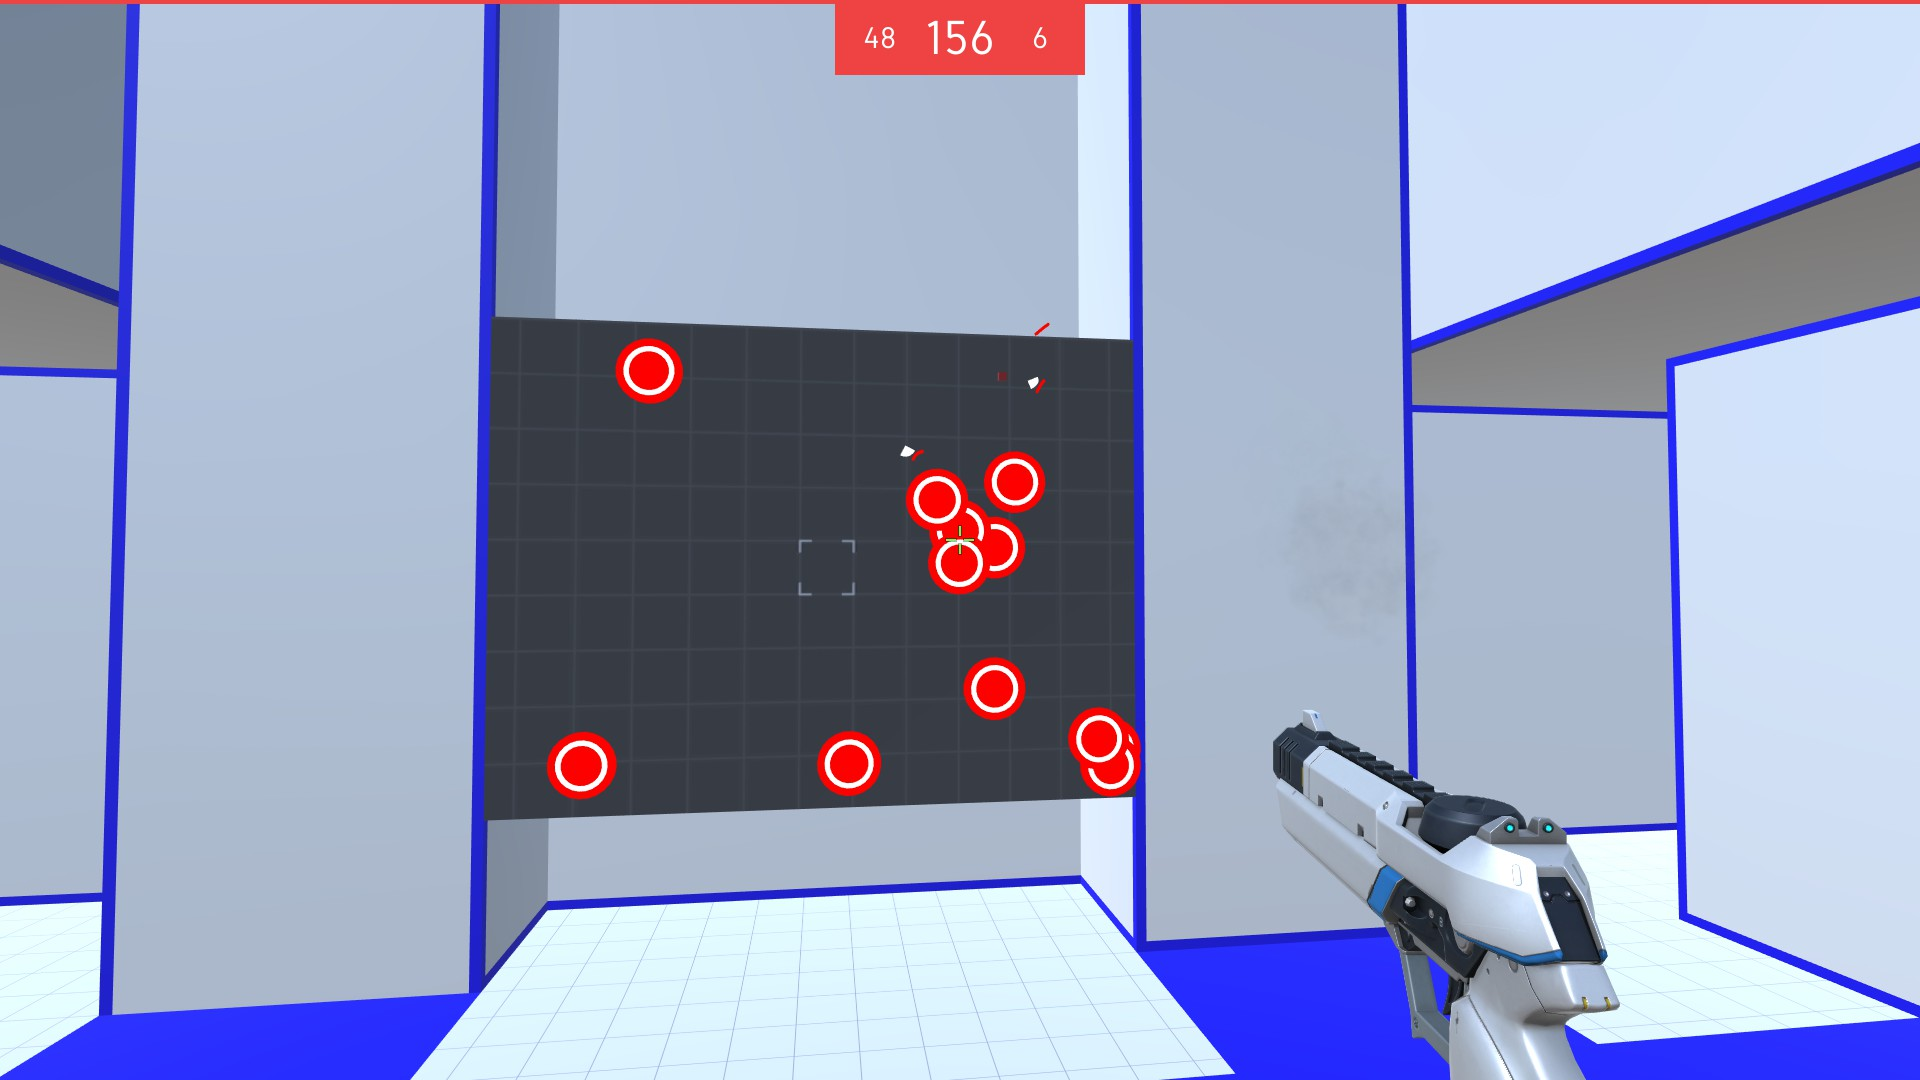target: (546, 728, 617, 802), (615, 338, 684, 407), (960, 655, 1026, 728), (815, 728, 881, 796), (982, 448, 1048, 514), (963, 516, 1029, 580), (899, 468, 965, 531), (927, 535, 993, 595), (1064, 705, 1126, 767), (1083, 740, 1141, 795)
